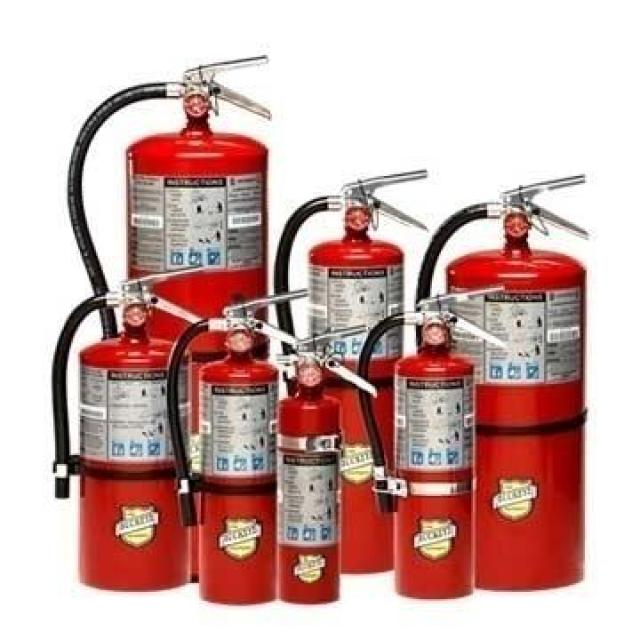fire_extinguisher: (61, 51, 273, 586), (410, 170, 591, 596), (268, 166, 430, 582), (44, 261, 228, 591), (354, 280, 512, 604), (158, 284, 313, 604), (266, 321, 381, 605)
